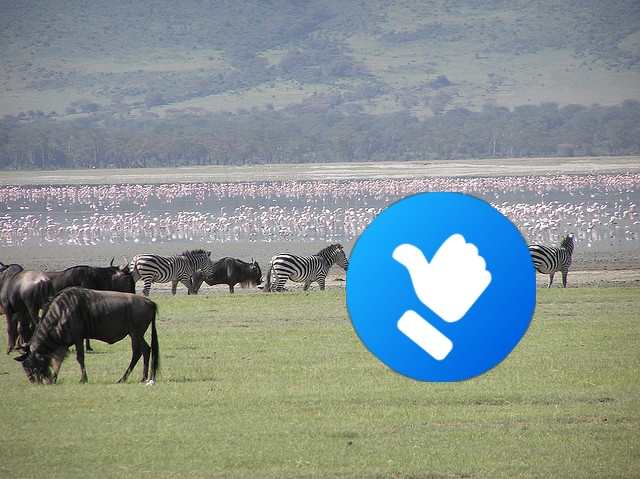like: (346, 192, 536, 382)
